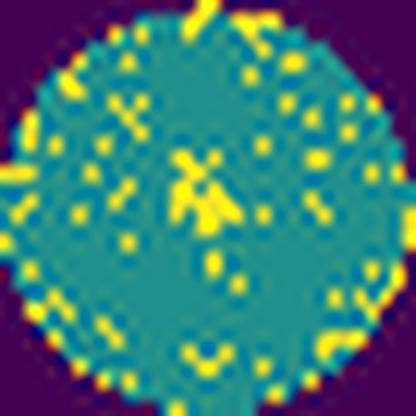Center: (170, 150, 242, 235)
